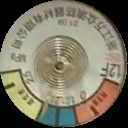green: (39, 105, 79, 127)
needle: (40, 92, 53, 124)
red: (74, 77, 124, 125)
yellow: (3, 71, 42, 123)
